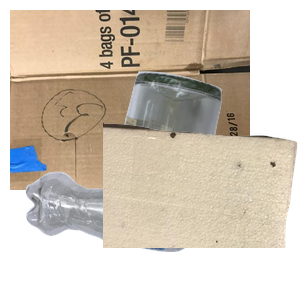cardboard: (10, 10, 250, 190)
glass: (109, 69, 300, 249)
plastic: (23, 169, 243, 300)
trash: (103, 120, 300, 300)
